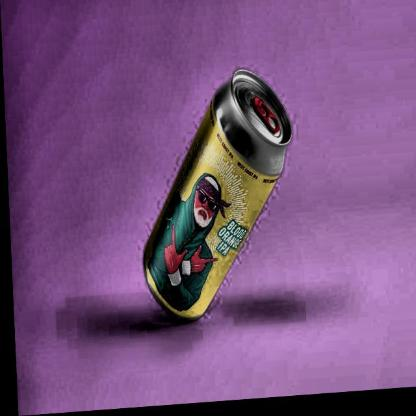Can: (132, 67, 302, 335)
